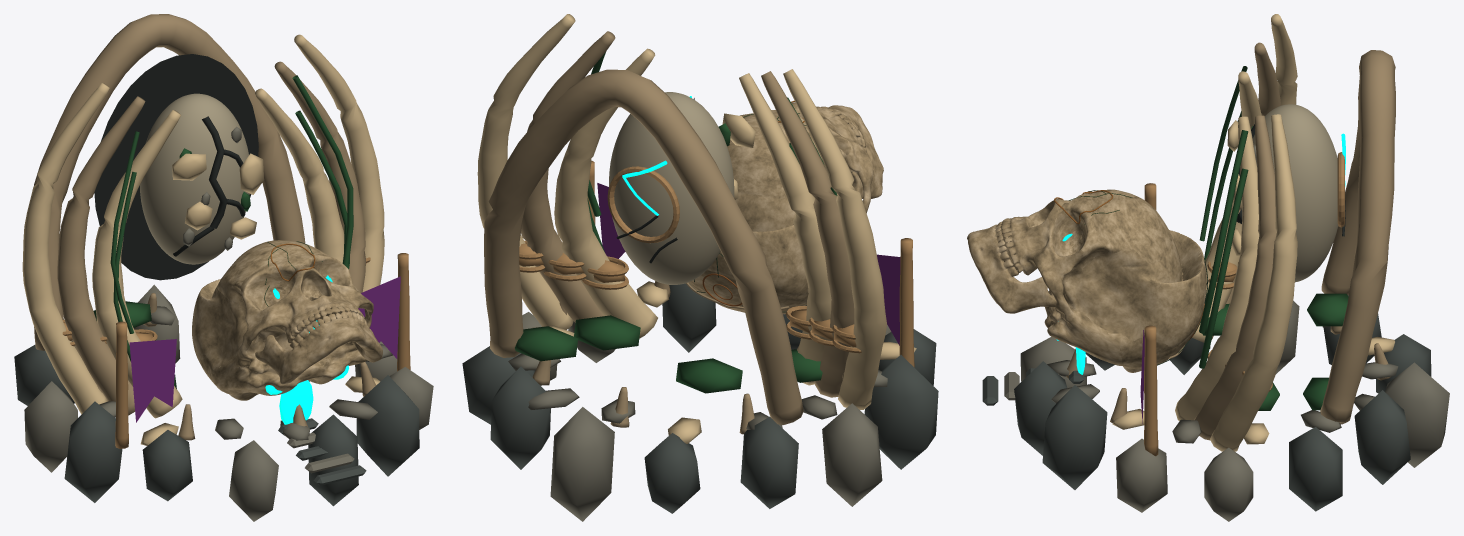
File: bone-hollow-hatchery-v013.glb
The picture shows the model from 3 angles, left to right: view 1: azimuth 30°, elevation 25°; view 2: azimuth 150°, elevation 25°; view 3: azimuth 270°, elevation 25°; orthographic projection. The views are drawn at different scales.
Visible parts, largest first — view 1: Rear egg cradle arch, Ancient soul egg, Bone Hollow recessed egg cavity, TitanSkull_AnatomyShell_01, Protective hatchery tusk L 3, Protective hatchery tusk L 2, Protective hatchery tusk R 3, Protective hatchery tusk L 1, Protective hatchery tusk R 1, Hatchery cliff rock 12, Hatchery cliff rock 8, TitanSkull_AnatomyShell_02 (+30 smaller); view 2: Rear egg cradle arch, Ancient soul egg, Protective hatchery tusk L 3, Protective hatchery tusk R 1, Protective hatchery tusk L 2, Protective hatchery tusk R 3, Protective hatchery tusk L 1, Hatchery cliff rock 4, Hatchery cliff rock 8, Protective hatchery tusk R 2, Hatchery cliff rock 7, TitanSkull_AnatomyShell_02 (+22 smaller); view 3: Rear egg cradle arch, TitanSkull_AnatomyShell_02, Protective hatchery tusk R 3, TitanSkull_AnatomyShell_01, Ancient soul egg, Protective hatchery tusk R 2, Protective hatchery tusk R 1, Hatchery cliff rock 12, TitanSkull_AnatomyShell_06, Hatchery cliff rock 4, Hatchery cliff rock 3, Hatchery cliff rock 2 (+22 smaller).
Boxes of the visible parts, x1=… form: Rear egg cradle arch: x1=34, y1=14, x2=305, y2=350; Ancient soul egg: x1=140, y1=93, x2=249, y2=264; Bone Hollow recessed egg cavity: x1=94, y1=54, x2=258, y2=280; TitanSkull_AnatomyShell_01: x1=235, y1=265, x2=382, y2=384; Protective hatchery tusk L 3: x1=22, y1=83, x2=109, y2=414; Protective hatchery tusk L 2: x1=57, y1=96, x2=145, y2=415; Protective hatchery tusk R 3: x1=294, y1=34, x2=384, y2=291; Protective hatchery tusk L 1: x1=92, y1=109, x2=182, y2=418; Protective hatchery tusk R 1: x1=255, y1=88, x2=344, y2=262; Hatchery cliff rock 12: x1=356, y1=375, x2=419, y2=476; Hatchery cliff rock 8: x1=64, y1=401, x2=122, y2=502; TitanSkull_AnatomyShell_02: x1=192, y1=278, x2=303, y2=362; Rear egg cradle arch: x1=484, y1=69, x2=803, y2=424; Ancient soul egg: x1=609, y1=92, x2=734, y2=284; Protective hatchery tusk L 3: x1=783, y1=69, x2=886, y2=409; Protective hatchery tusk R 1: x1=554, y1=48, x2=657, y2=338; Protective hatchery tusk L 2: x1=761, y1=71, x2=854, y2=397; Protective hatchery tusk R 3: x1=477, y1=14, x2=575, y2=329; Protective hatchery tusk L 1: x1=739, y1=73, x2=831, y2=385; Hatchery cliff rock 4: x1=550, y1=407, x2=614, y2=521; Hatchery cliff rock 8: x1=864, y1=355, x2=938, y2=469; Protective hatchery tusk R 2: x1=521, y1=31, x2=615, y2=322; Hatchery cliff rock 7: x1=822, y1=403, x2=882, y2=506; TitanSkull_AnatomyShell_02: x1=707, y1=190, x2=807, y2=294; Rear egg cradle arch: x1=1320, y1=50, x2=1395, y2=422; TitanSkull_AnatomyShell_02: x1=1063, y1=230, x2=1206, y2=347; Protective hatchery tusk R 3: x1=1210, y1=114, x2=1297, y2=451; TitanSkull_AnatomyShell_01: x1=967, y1=199, x2=1083, y2=323; Ancient soul egg: x1=1242, y1=104, x2=1338, y2=282; Protective hatchery tusk R 2: x1=1194, y1=115, x2=1276, y2=440; Protective hatchery tusk R 1: x1=1175, y1=116, x2=1259, y2=420; Hatchery cliff rock 12: x1=1042, y1=385, x2=1107, y2=489; TitanSkull_AnatomyShell_06: x1=1090, y1=189, x2=1171, y2=262; Hatchery cliff rock 4: x1=1385, y1=362, x2=1449, y2=467; Hatchery cliff rock 3: x1=1354, y1=390, x2=1410, y2=484; Hatchery cliff rock 2: x1=1289, y1=427, x2=1342, y2=511.
Bounding box in the file's own units: 2.11 × 2.17 × 2.35.
Materials: 17 (1 with a texture image).
